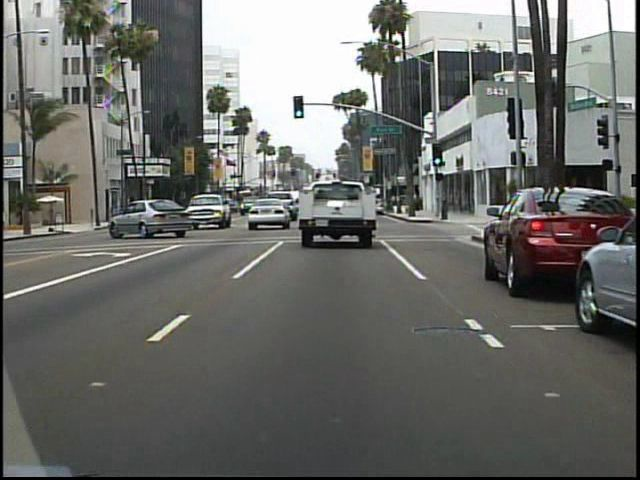person: (440, 186, 452, 221)
